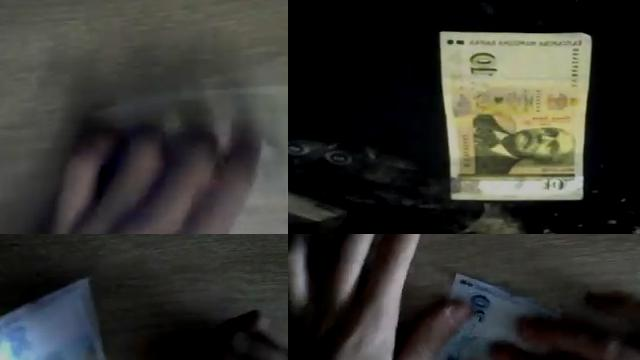10leva: (457, 48, 504, 87)
20leva: (441, 288, 640, 360), (0, 277, 109, 360)
